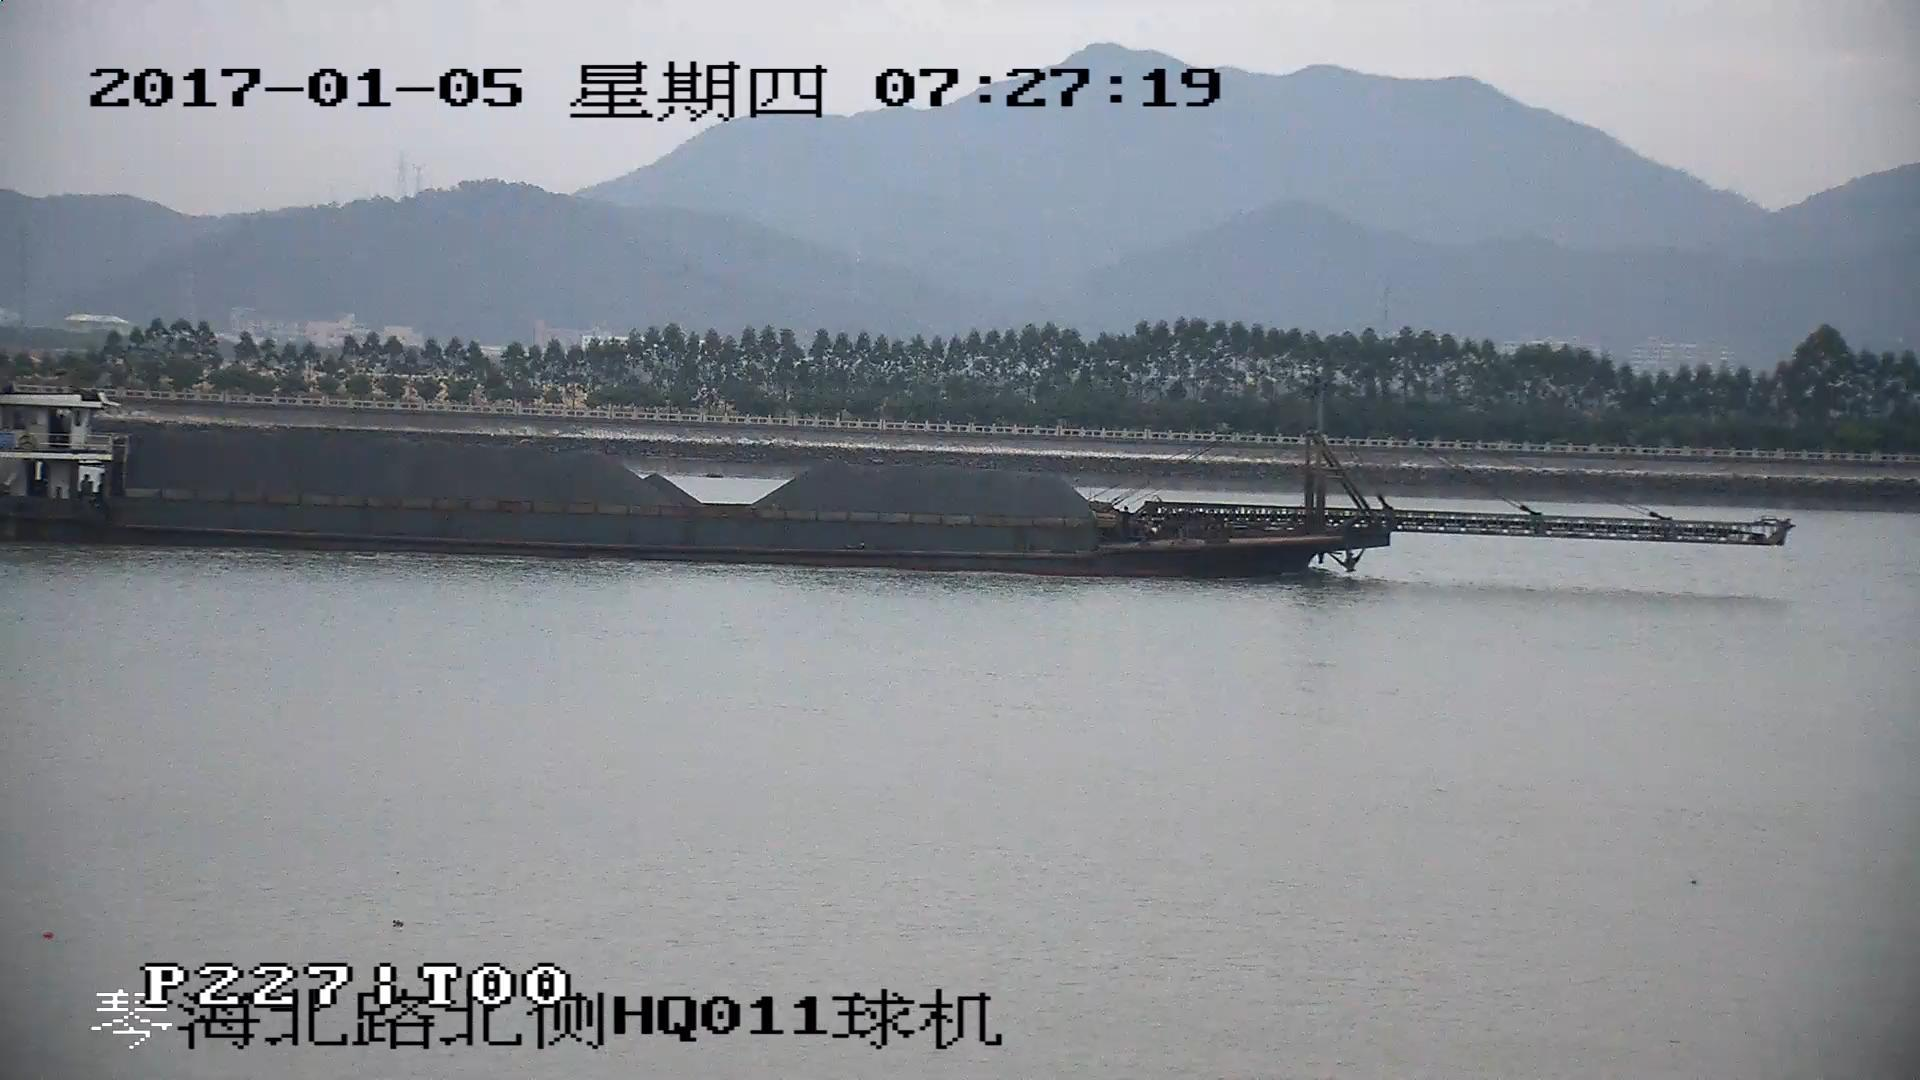Ship: (3, 386, 1785, 574)
